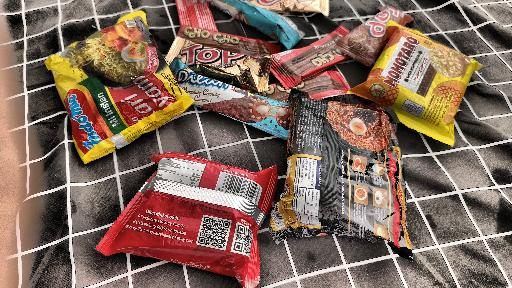indomie: (46, 22, 192, 162)
mie sedap: (273, 74, 444, 269)
momotaro: (115, 149, 293, 288)
